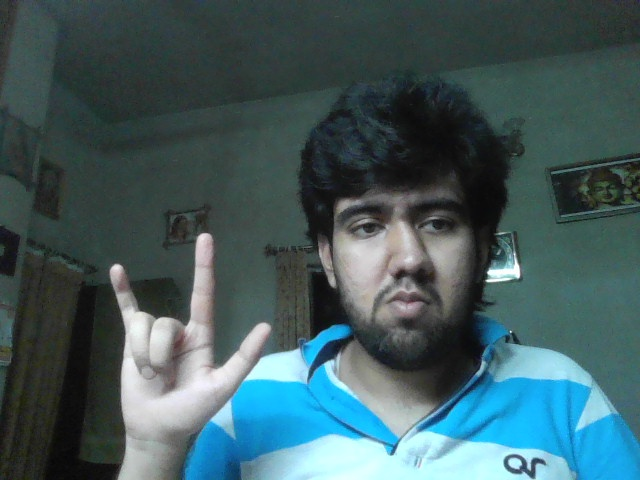ILoveYou: (109, 233, 272, 446)
